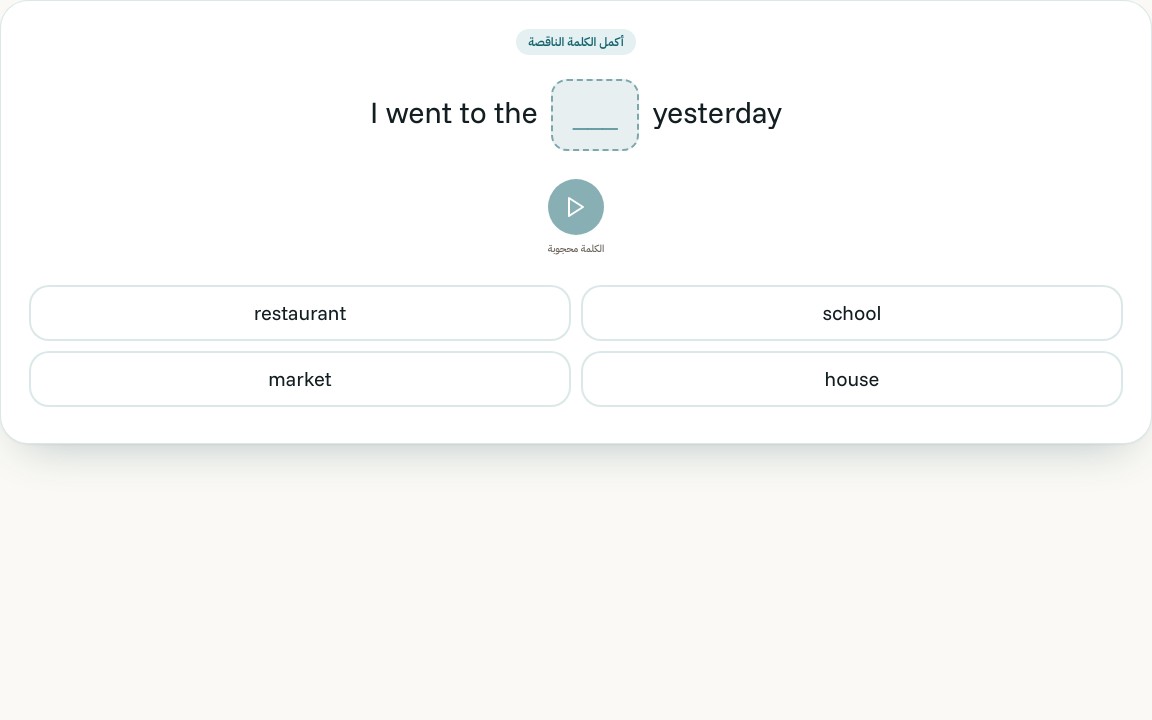
Test: the sentence translation › appears when the learner asks
What coordinates should you click on to do the following:
click the button "market"
I would click on:
 (300, 379)
Its box is [29,351,571,407].
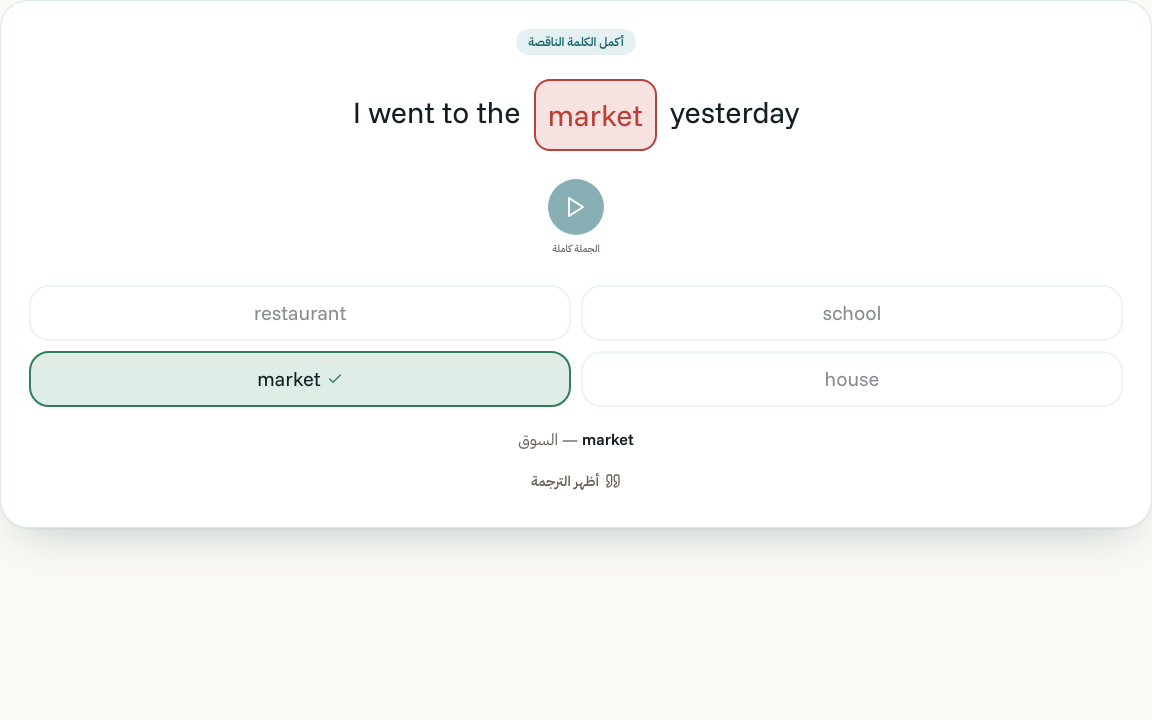
What coordinates should you click on to do the following:
click the button "أظهر الترجمة"
I would click on:
 (576, 481)
Its box is [517,463,635,499].
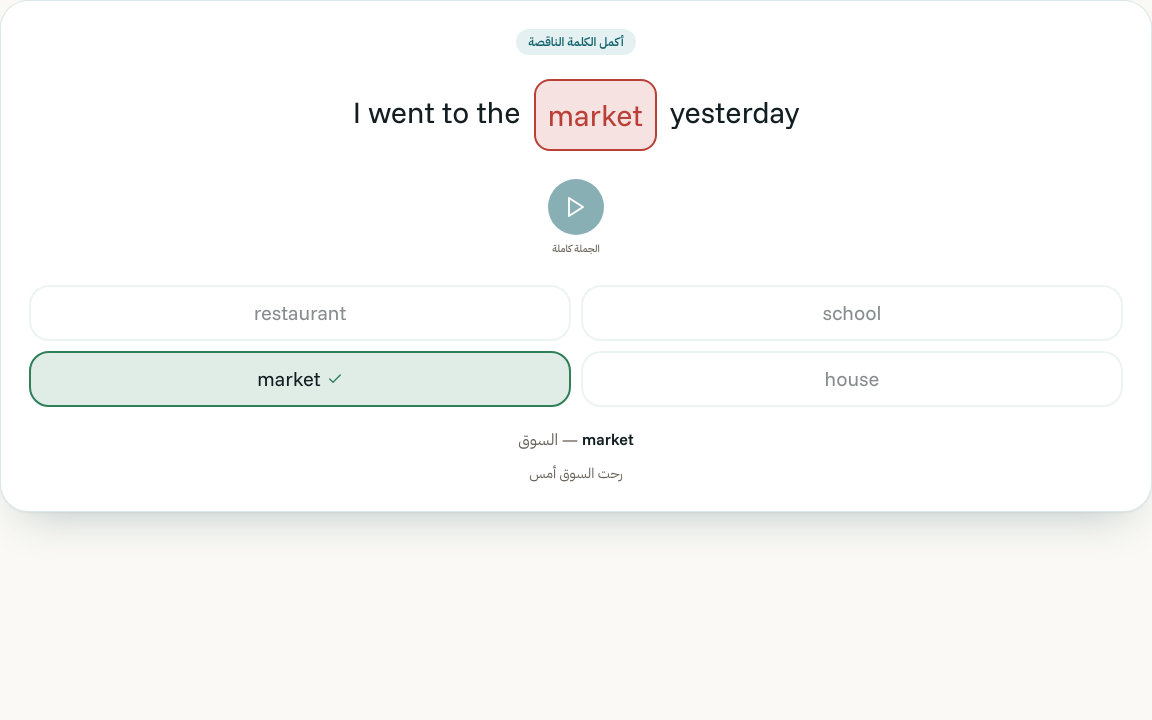
Result: the text "رحت السوق أمس" is shown at [529,464,623,482]
